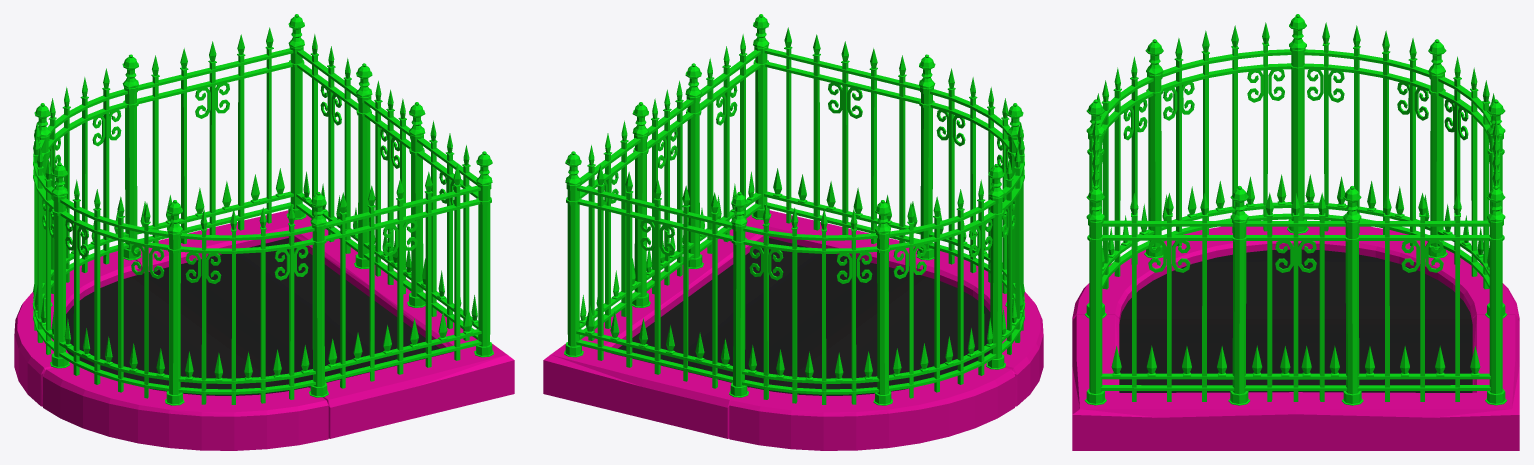
File: City_Fence05.fbx
3 renders of one model, left to right at view 1: azimuth 30°, elevation 25°; view 2: azimuth 150°, elevation 25°; view 3: azimuth 270°, elevation 25°, orthographic. The views are drawn at different scales.
Parts seen in each view (by area): view 1: SM_City_Fence_04_Divider_01b.mo; view 2: SM_City_Fence_04_Divider_01b.mo; view 3: SM_City_Fence_04_Divider_01b.mo.
Part boxes in pixels (x1,y1,x2,y2): SM_City_Fence_04_Divider_01b.mo: (14,14,514,450); SM_City_Fence_04_Divider_01b.mo: (543,14,1043,450); SM_City_Fence_04_Divider_01b.mo: (1072,14,1519,450).
Size of the model in its own units: 357 by 222 by 352.
